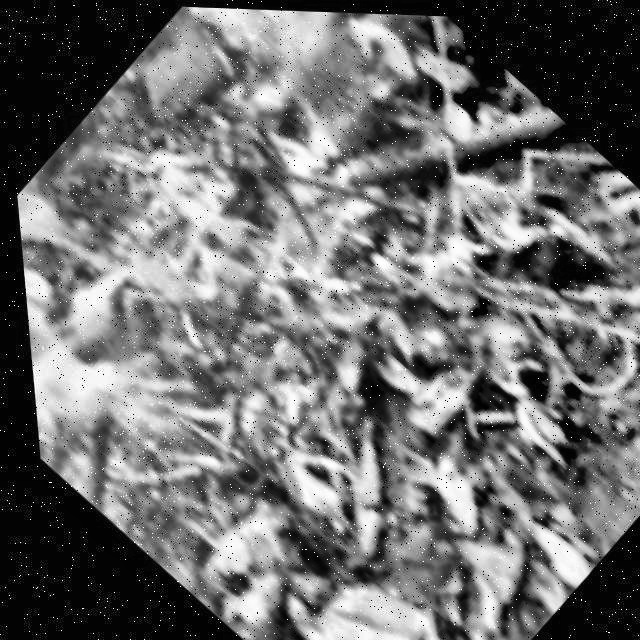Fire: (2, 35, 396, 539)
